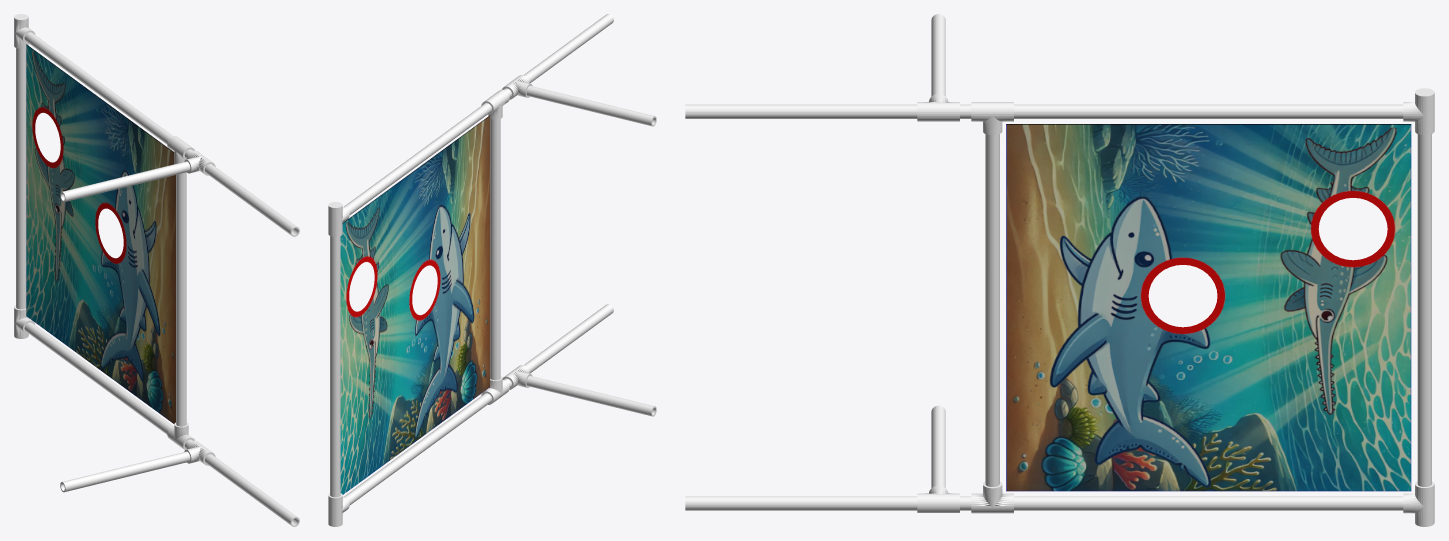
Rendered from torpboard_sawfish.obj.
3 views of the same model, side by side, from view 1: azimuth 30°, elevation 25°; view 2: azimuth 150°, elevation 25°; view 3: azimuth 270°, elevation 25° (orthographic). The views are drawn at different scales.
Parts seen in each view (by area): view 1: Plane, Cylinder.003, Cylinder, Cylinder.001, Cylinder.002, Cylinder.008, Cylinder.009, Cylinder.006, Cylinder.007, TJoint.003, TJoint.002, TJoint.004 (+3 smaller); view 2: Plane, Cylinder, Cylinder.003, Cylinder.002, Cylinder.001, Cylinder.008, Cylinder.009, Cylinder.006, Cylinder.007, TJoint.003, TJoint.002, TJoint.004 (+3 smaller); view 3: Plane, Cylinder.002, Cylinder.001, Cylinder, Cylinder.003, Cylinder.007, Cylinder.006, Cylinder.008, Cylinder.009, TJoint.003, TJoint.004, TJoint.002 (+3 smaller).
Boxes of the visible parts, left/top/right/bottom form: Plane: left=26, top=44, right=175, bottom=423; Cylinder.003: left=16, top=48, right=26, bottom=309; Cylinder: left=176, top=172, right=186, bottom=426; Cylinder.001: left=24, top=32, right=173, bottom=144; Cylinder.002: left=24, top=322, right=173, bottom=434; Cylinder.008: left=60, top=451, right=190, bottom=492; Cylinder.009: left=60, top=161, right=190, bottom=202; Cylinder.006: left=205, top=164, right=299, bottom=236; Cylinder.007: left=204, top=454, right=299, bottom=526; TJoint.003: left=14, top=14, right=35, bottom=48; TJoint.002: left=14, top=305, right=35, bottom=338; TJoint.004: left=167, top=136, right=194, bottom=163; Plane: left=340, top=115, right=490, bottom=494; Cylinder: left=490, top=119, right=500, bottom=380; Cylinder.003: left=330, top=236, right=340, bottom=497; Cylinder.002: left=343, top=393, right=491, bottom=505; Cylinder.001: left=344, top=103, right=491, bottom=214; Cylinder.008: left=526, top=376, right=656, bottom=416; Cylinder.009: left=526, top=85, right=656, bottom=126; Cylinder.006: left=523, top=14, right=613, bottom=83; Cylinder.007: left=524, top=304, right=613, bottom=373; TJoint.003: left=328, top=202, right=349, bottom=236; TJoint.002: left=328, top=493, right=349, bottom=526; TJoint.004: left=481, top=89, right=509, bottom=119; Plane: left=1006, top=124, right=1411, bottom=491; Cylinder.002: left=1014, top=496, right=1403, bottom=510; Cylinder.001: left=1014, top=104, right=1403, bottom=118; Cylinder: left=985, top=134, right=999, bottom=486; Cylinder.003: left=1417, top=134, right=1431, bottom=486; Cylinder.007: left=685, top=496, right=917, bottom=510; Cylinder.006: left=685, top=104, right=917, bottom=118; Cylinder.008: left=931, top=405, right=945, bottom=487; Cylinder.009: left=931, top=14, right=945, bottom=96; TJoint.003: left=1403, top=88, right=1434, bottom=135; TJoint.004: left=971, top=102, right=1013, bottom=135; TJoint.002: left=1403, top=481, right=1434, bottom=526.
Bounding box in the file's own units: 0.3347 × 0.7035 × 1.11.
